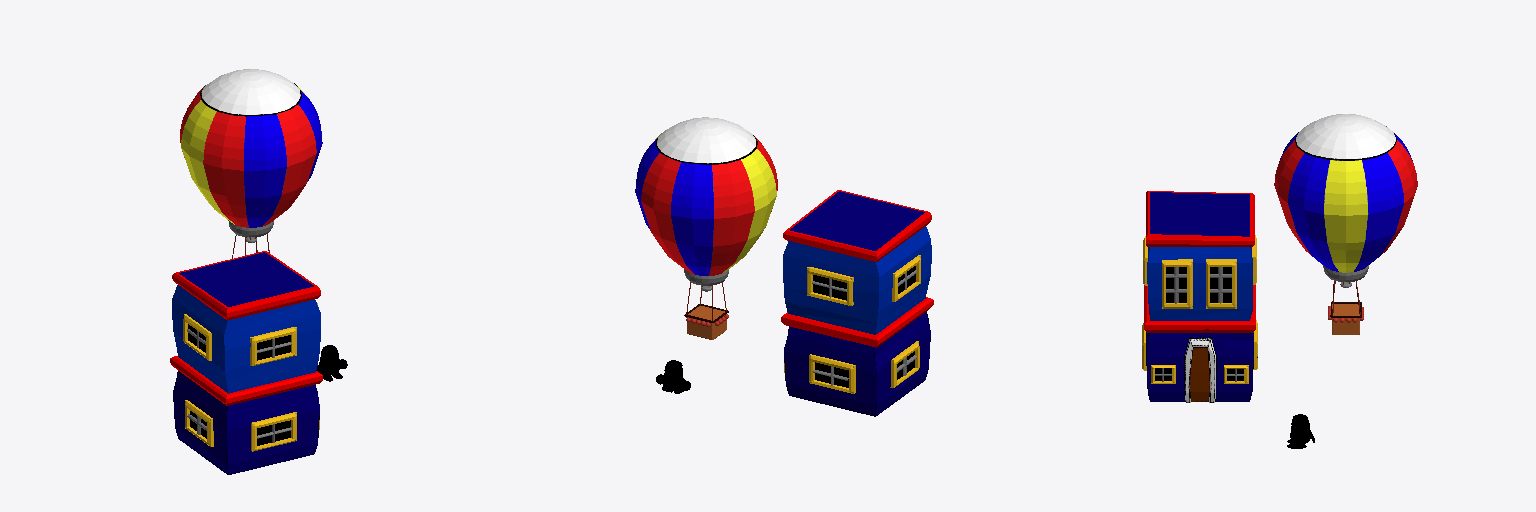
The picture shows the model from 3 angles: view 1: azimuth 30°, elevation 25°; view 2: azimuth 150°, elevation 25°; view 3: azimuth 270°, elevation 25°; orthographic projection.
Parts seen in each view (by area): view 1: edificio:pCube12, globo:pCylinder6, supercacahuate:pSphere6; view 2: edificio:pCube12, globo:pCylinder6, supercacahuate:pSphere6; view 3: edificio:pCube12, globo:pCylinder6, supercacahuate:pSphere6.
Boxes of the visible parts, <box> form: edificio:pCube12: <box>170,251,322,474</box>; globo:pCylinder6: <box>180,69,322,258</box>; supercacahuate:pSphere6: <box>316,345,347,381</box>; edificio:pCube12: <box>781,190,933,416</box>; globo:pCylinder6: <box>635,117,777,339</box>; supercacahuate:pSphere6: <box>656,360,690,393</box>; edificio:pCube12: <box>1142,191,1257,402</box>; globo:pCylinder6: <box>1274,114,1417,334</box>; supercacahuate:pSphere6: <box>1287,414,1314,448</box>.
Bounding box in the file's own units: 21.29 × 30.04 × 25.15.
3 materials, 2 textured.